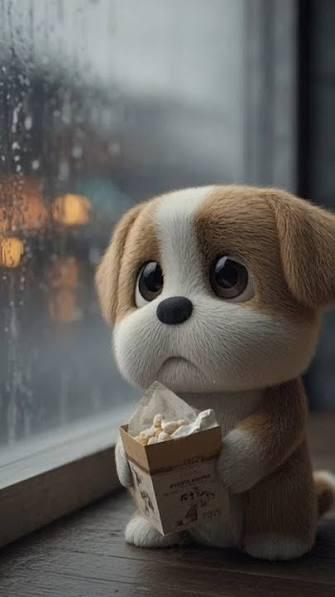non-dog: (94, 184, 335, 563)
